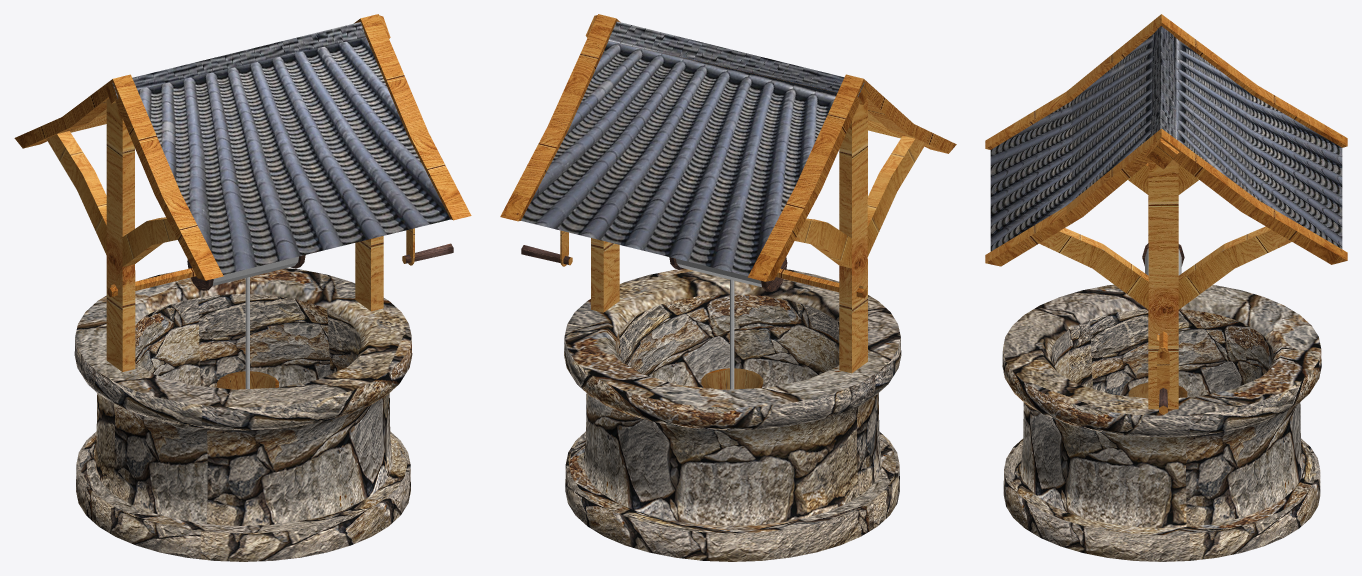
The model's file is well.FBX.
3 views of the same model, side by side, from view 1: azimuth 30°, elevation 25°; view 2: azimuth 150°, elevation 25°; view 3: azimuth 270°, elevation 25° (orthographic). The views are drawn at different scales.
Visible parts, largest first — view 1: Cylinder, Cube, Cylinder.006, Cylinder001; view 2: Cylinder, Cube, Cylinder.006, Cylinder001; view 3: Cylinder, Cube, Cylinder.006.
Boxes of the visible parts, bbox=[...] form: Cylinder: bbox=[74, 268, 412, 561]; Cube: bbox=[14, 14, 471, 280]; Cylinder.006: bbox=[46, 98, 453, 388]; Cylinder001: bbox=[217, 371, 278, 389]; Cylinder: bbox=[564, 268, 901, 561]; Cube: bbox=[500, 14, 956, 281]; Cylinder.006: bbox=[521, 99, 925, 389]; Cylinder001: bbox=[701, 368, 763, 389]; Cylinder: bbox=[1002, 284, 1321, 561]; Cube: bbox=[985, 14, 1347, 266]; Cylinder.006: bbox=[1039, 160, 1291, 414].
Size of the model in its own units: 571 by 684 by 534.
